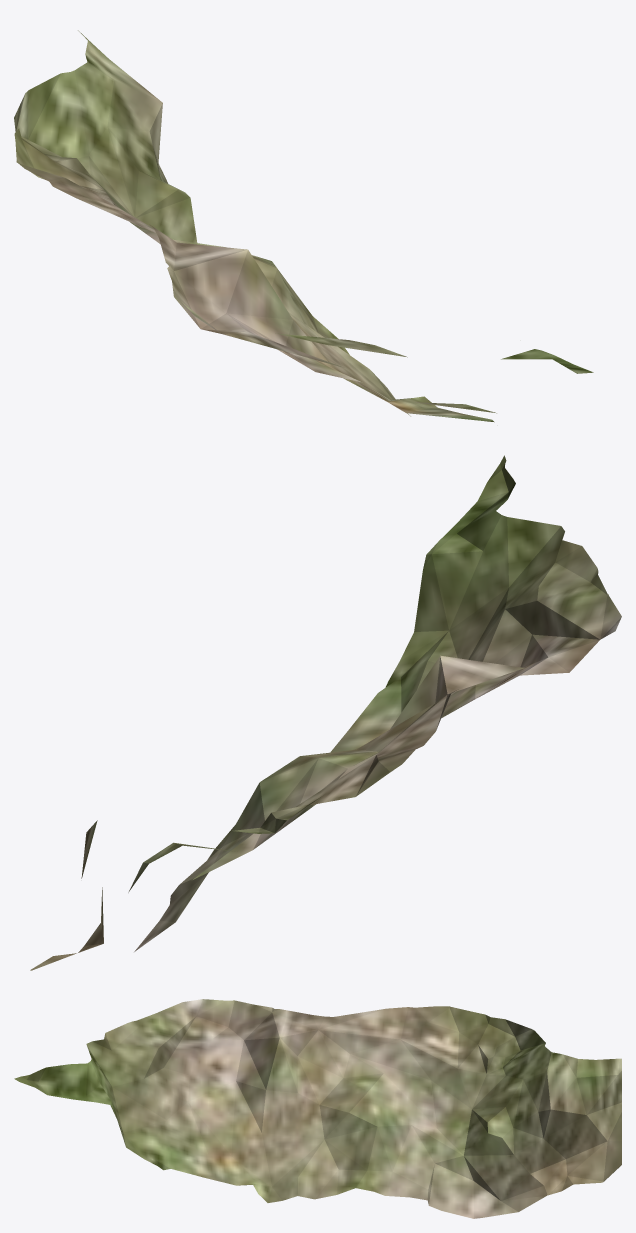
The picture shows the model from 3 angles, top to bottom: view 1: azimuth 30°, elevation 25°; view 2: azimuth 150°, elevation 25°; view 3: azimuth 270°, elevation 25°; orthographic projection. The views are drawn at different scales.
Size of the model in its own units: 0.6061 by 0.4966 by 1.95.
Materials: 1 (1 with a texture image).
